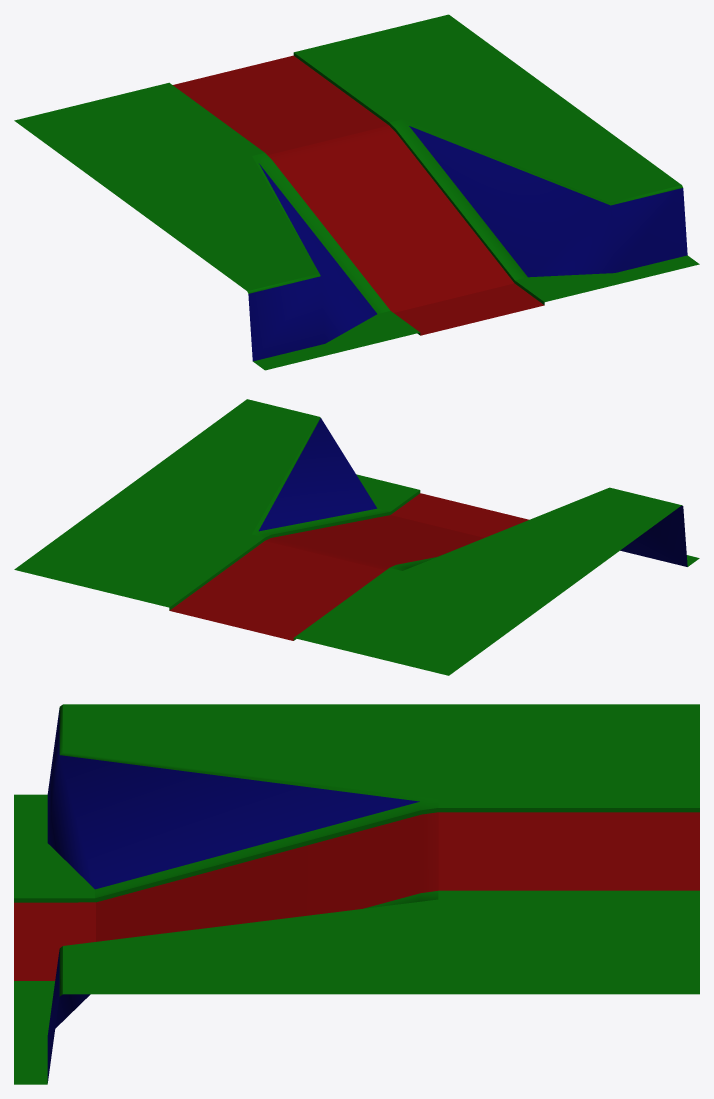
Rendered from RoadCliff.fbx.
The picture shows the model from 3 angles, top to bottom: view 1: azimuth 30°, elevation 25°; view 2: azimuth 150°, elevation 25°; view 3: azimuth 270°, elevation 25°; orthographic projection. The views are drawn at different scales.
Parts seen in each view (by area): view 1: Cliff1; view 2: Cliff1; view 3: Cliff1.
Boxes of the visible parts, x1,y1,x2,y2 form: Cliff1: (14, 14, 699, 370); Cliff1: (14, 399, 699, 675); Cliff1: (14, 704, 699, 1084).
Size of the model in its own units: 7 by 1.07 by 7.
